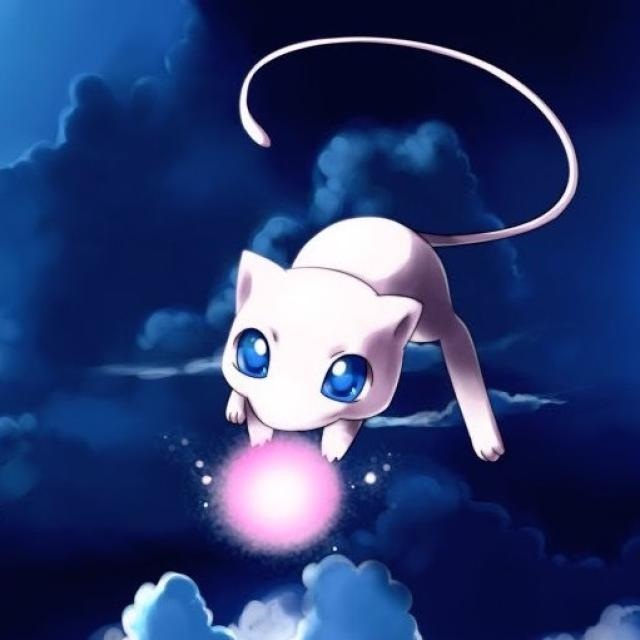Mew: (194, 213, 443, 425)
